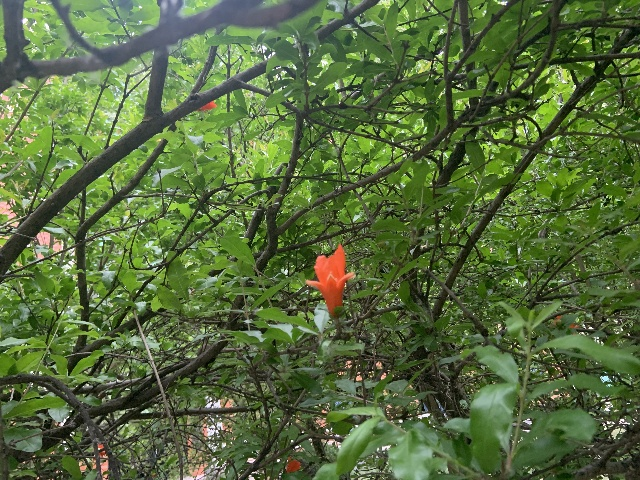flower: (305, 242, 354, 316), (196, 100, 217, 113), (286, 456, 300, 473)
